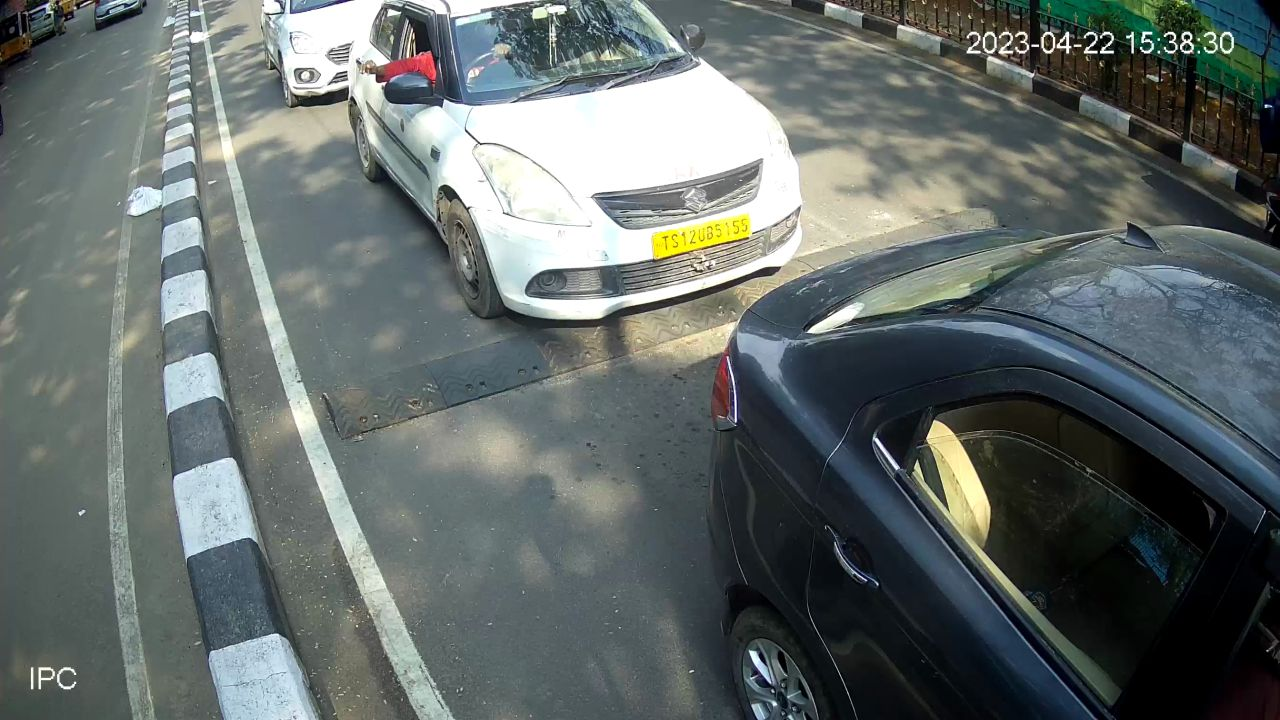license_plate: (647, 204, 756, 271)
